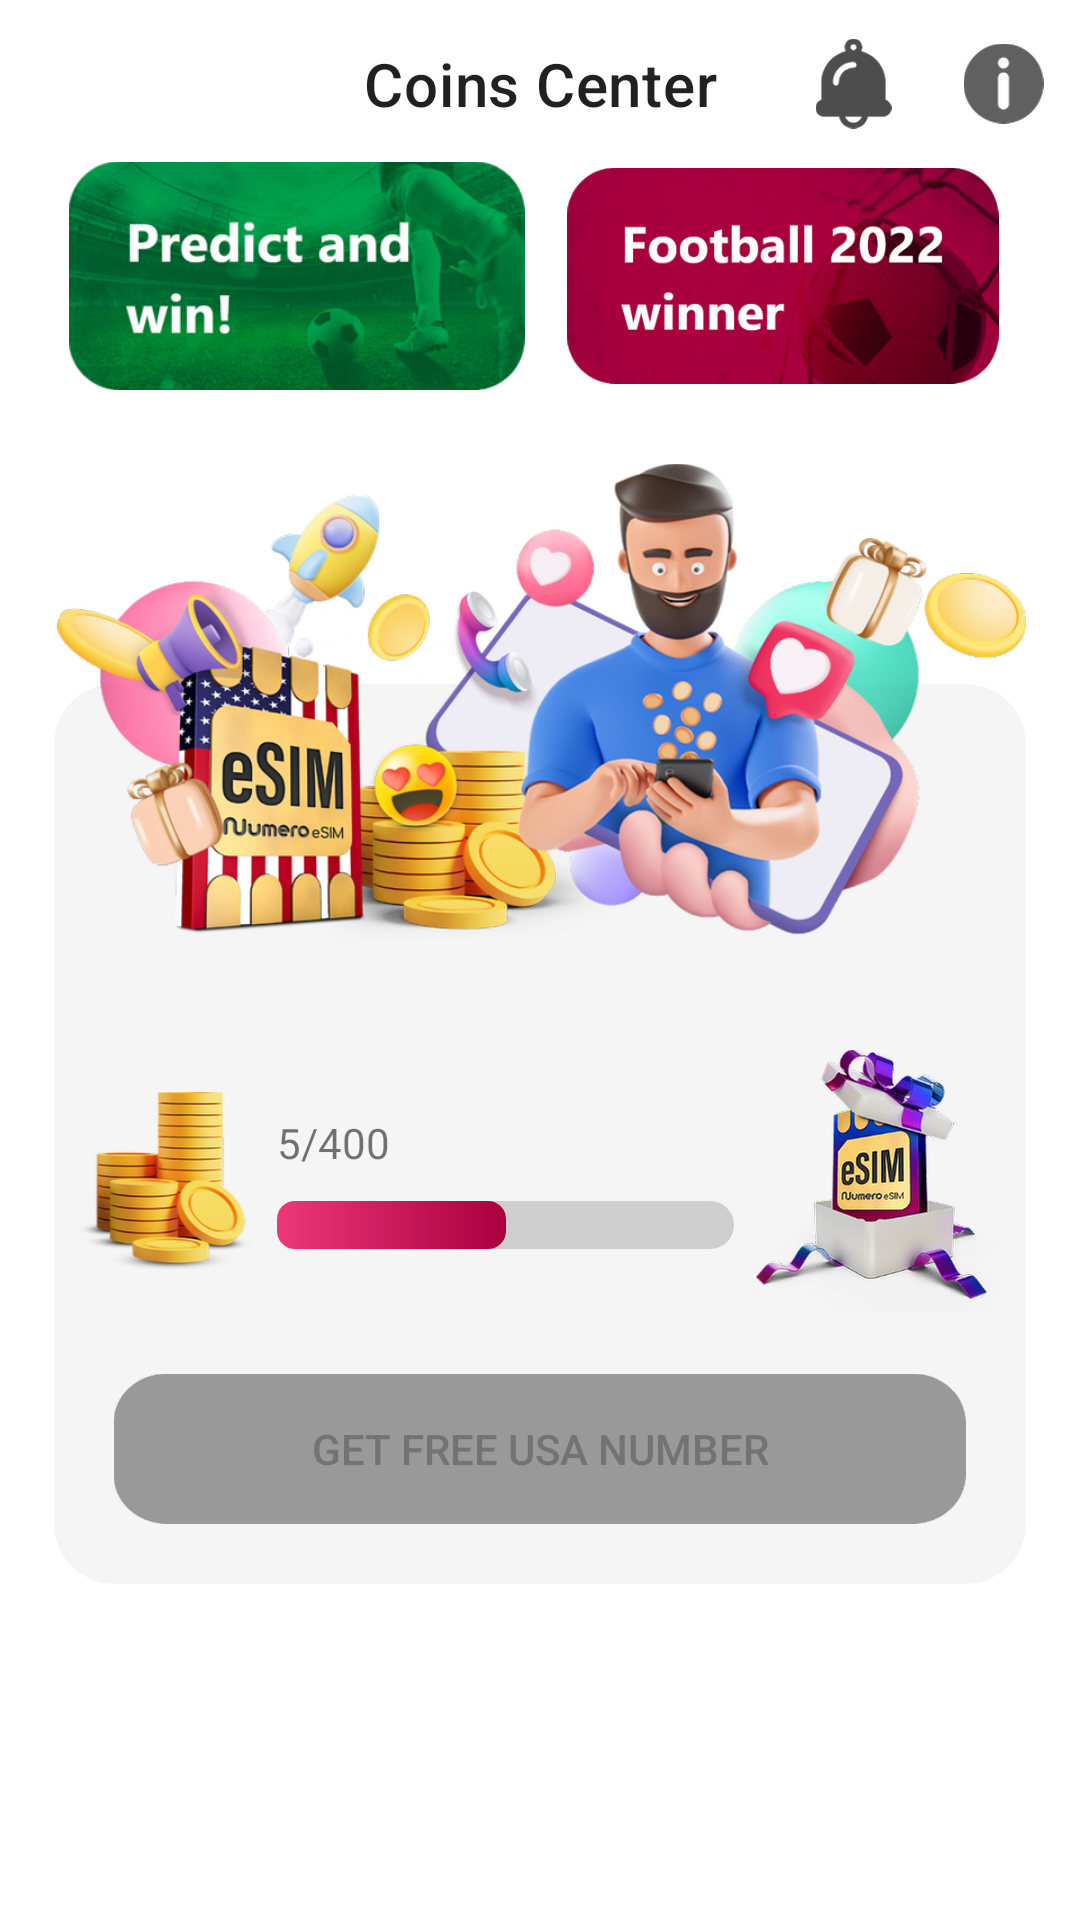

Where to tap for icons on this 1080w x 1920h app screen, as (x=x, y=y):
coins: (x=167, y=1179)
